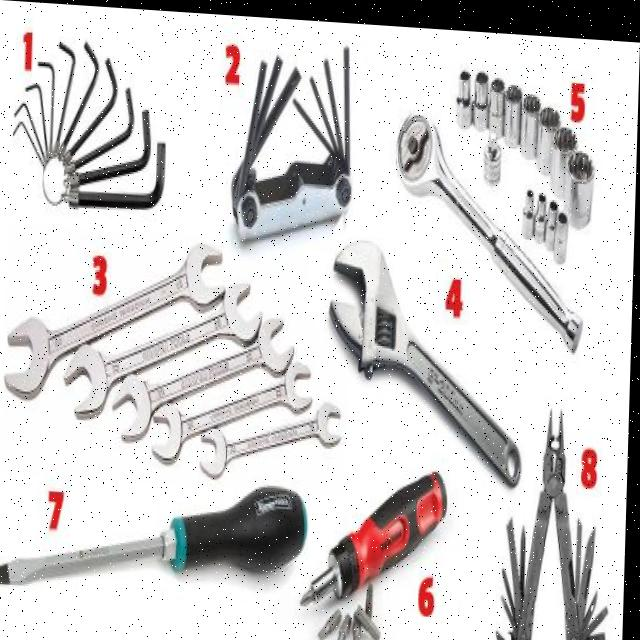Screwdriver: (1, 483, 311, 584), (305, 465, 449, 601)
